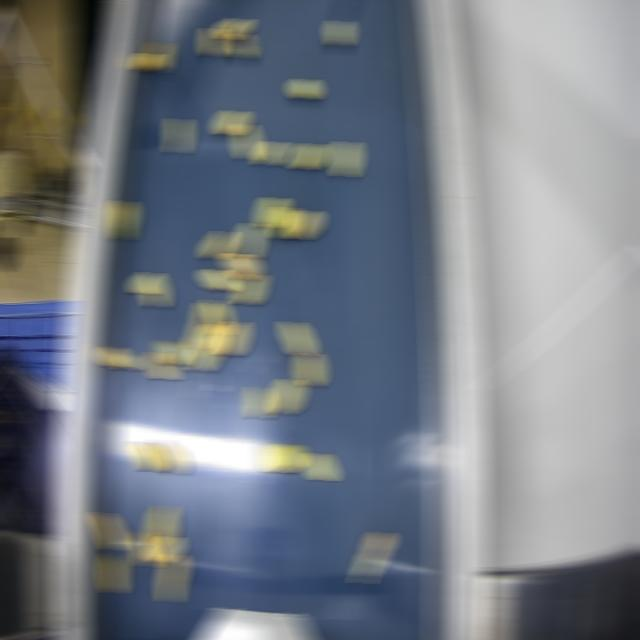Baby Potato: (356, 531, 389, 583), (190, 324, 223, 370), (188, 303, 215, 348), (133, 272, 164, 307), (94, 512, 121, 551), (264, 444, 301, 472), (162, 554, 183, 602), (273, 378, 300, 414), (283, 320, 310, 355), (218, 320, 245, 355), (149, 504, 172, 545), (155, 440, 182, 473), (238, 222, 264, 256), (113, 200, 134, 239), (290, 209, 317, 239), (133, 441, 160, 471), (225, 253, 256, 279), (101, 346, 134, 370), (204, 230, 231, 259), (135, 530, 156, 567), (236, 273, 261, 304), (103, 553, 122, 593), (335, 141, 356, 177), (149, 536, 178, 562), (259, 197, 284, 227), (272, 207, 295, 239), (299, 352, 320, 386), (202, 268, 233, 291), (294, 143, 321, 169), (307, 453, 332, 481), (237, 123, 256, 159), (217, 110, 244, 135), (158, 340, 185, 365), (208, 299, 227, 334), (218, 17, 247, 39), (150, 352, 173, 379), (249, 386, 268, 418), (148, 41, 167, 72), (259, 141, 282, 166), (203, 27, 222, 56), (171, 118, 186, 153), (329, 20, 348, 46), (232, 33, 251, 58), (294, 78, 315, 99), (135, 53, 156, 71)
